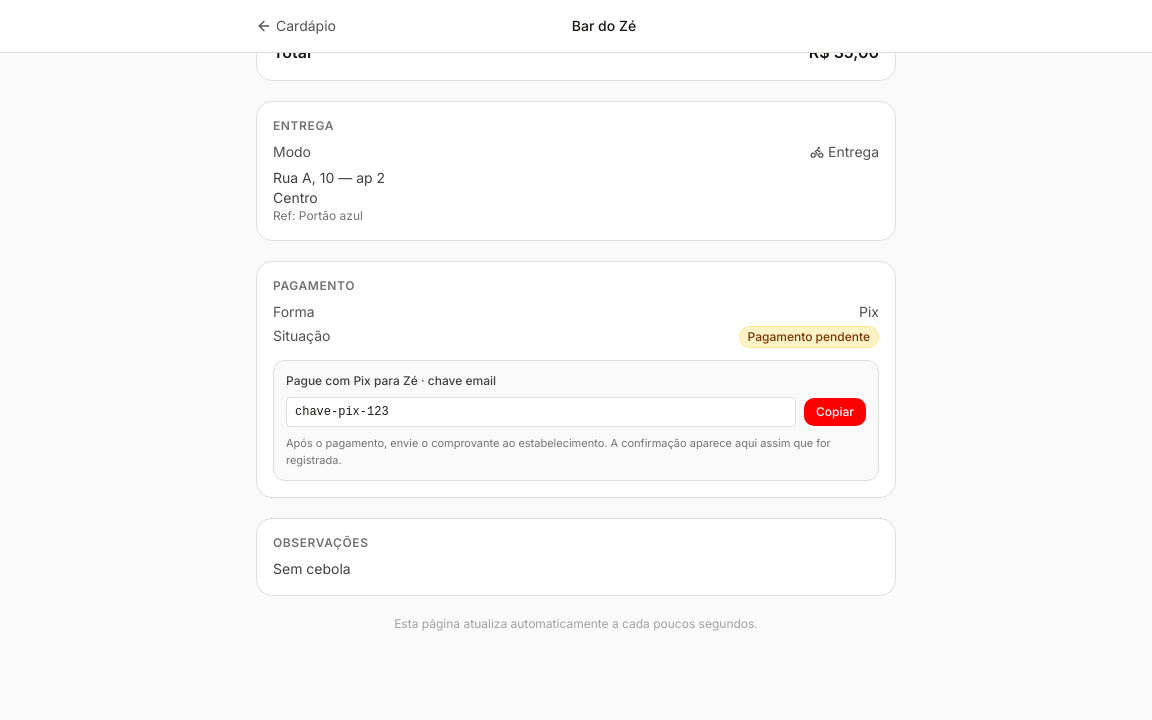
CardapioPedido › copia a chave Pix enquanto o pagamento está pendente
(page scrolled)
Expected: the text "Pagamento pendente" is shown, [739, 326, 879, 348]
Click the button "Copiar": click(835, 412) [804, 398, 866, 426]
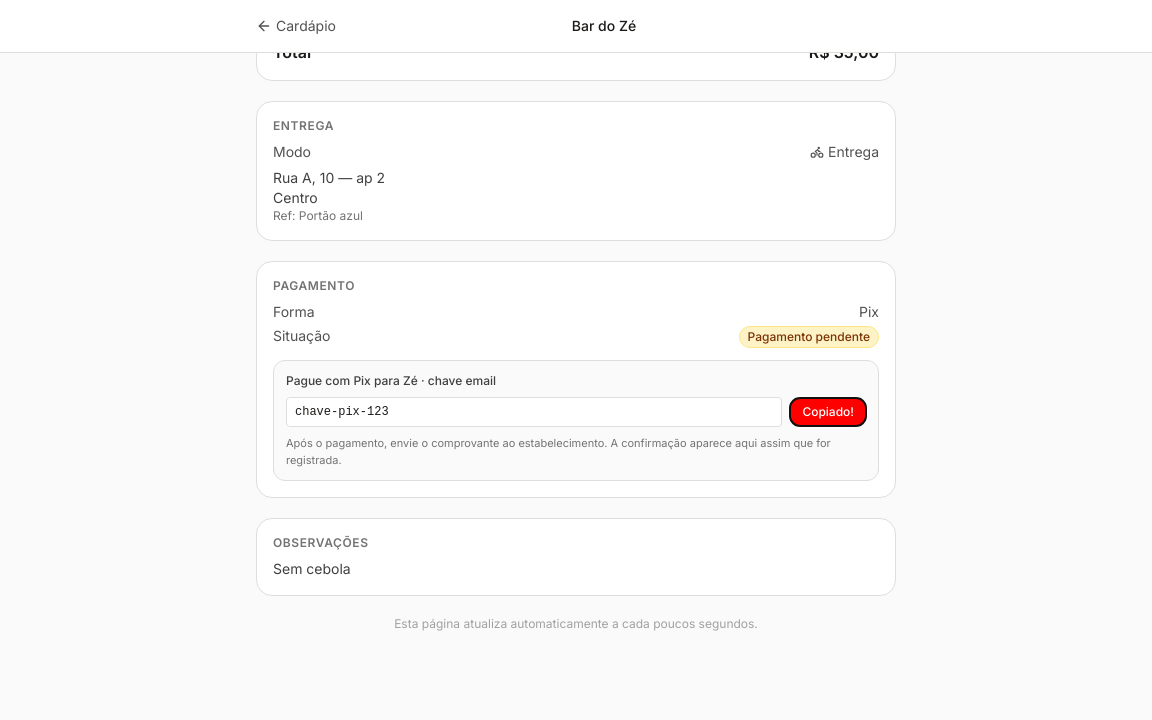
Expected: the button "Copiado!" is shown, [790, 398, 866, 426]
